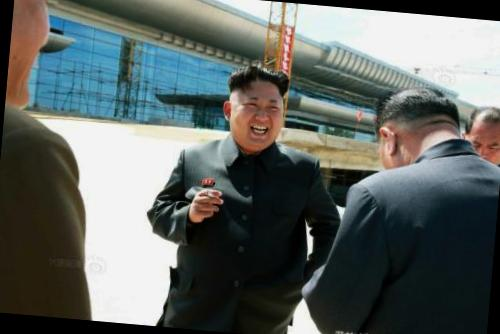no_helmet: (366, 80, 470, 176), (218, 60, 294, 156), (463, 103, 500, 163)
